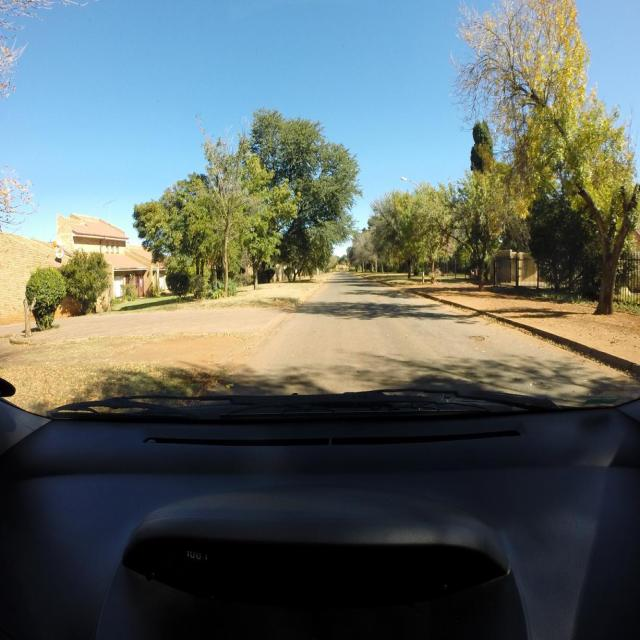Pothole: (467, 335, 485, 341), (371, 294, 380, 297)
